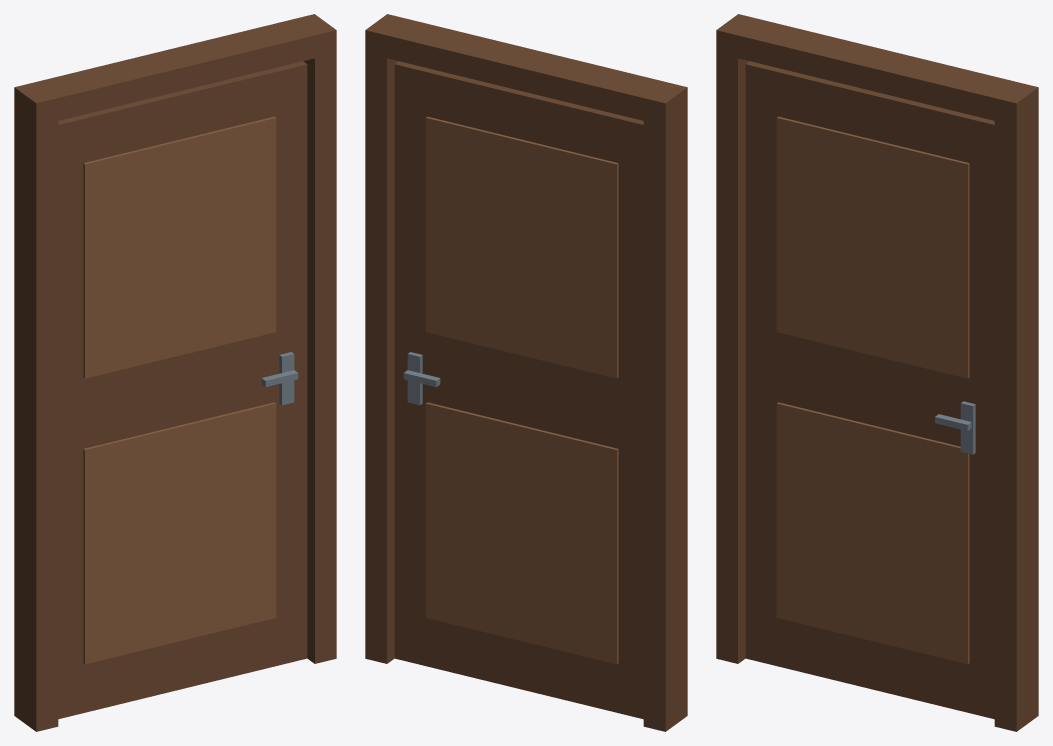
File: panel-door-lod1.glb
3 views of the same model, side by side, from view 1: azimuth 30°, elevation 25°; view 2: azimuth 150°, elevation 25°; view 3: azimuth 330°, elevation 25° (orthographic).
Parts seen in each view (by area): view 1: raised-panel (×2), leaf-slab, frame-post (×2), frame-header, handle-plate; view 2: raised-panel (×2), leaf-slab, frame-post (×2), frame-header, handle-plate; view 3: raised-panel (×2), leaf-slab, frame-post (×2), frame-header, handle-plate.
Part boxes in pixels (x1,y1,x2,y2): raised-panel (×2): (83, 116, 276, 664); leaf-slab: (58, 61, 307, 719); frame-post (×2): (14, 53, 336, 731); frame-header: (14, 14, 336, 126); handle-plate: (279, 352, 294, 405); raised-panel (×2): (425, 116, 618, 664); leaf-slab: (394, 61, 643, 719); frame-post (×2): (365, 53, 687, 731); frame-header: (365, 14, 687, 126); handle-plate: (407, 352, 422, 405); raised-panel (×2): (776, 116, 969, 664); leaf-slab: (745, 61, 994, 719); frame-post (×2): (716, 53, 1038, 731); frame-header: (716, 14, 1038, 126); handle-plate: (960, 401, 975, 454).
Bounding box in the file's own units: 1.1 × 2.2 × 0.207.
